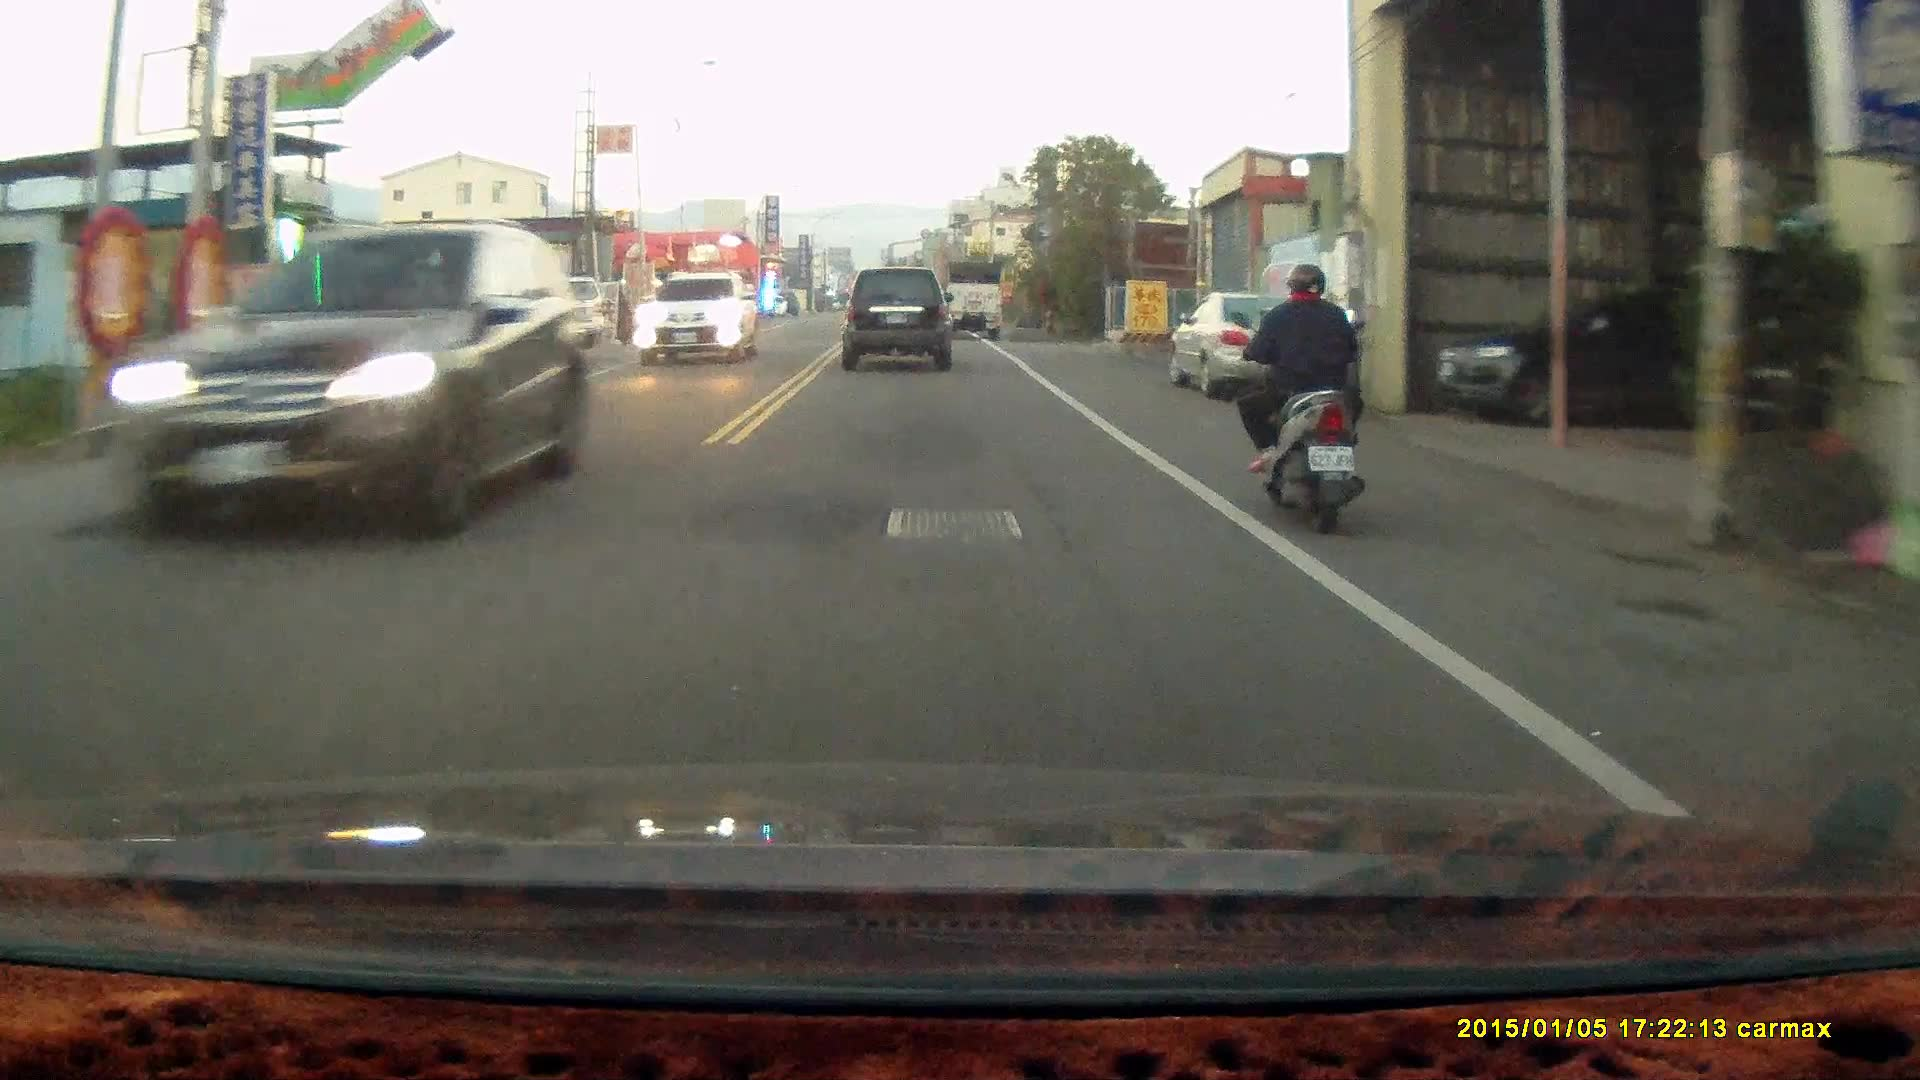rider: (1224, 258, 1364, 534)
vehicle: (115, 212, 605, 559), (1437, 294, 1740, 426), (1168, 283, 1341, 398), (633, 274, 763, 370), (842, 268, 956, 371), (935, 259, 1005, 339)
